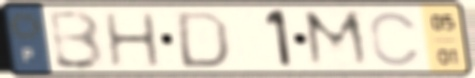1: (262, 7, 296, 71)
B: (47, 7, 108, 72)
C: (367, 9, 424, 69)
D: (174, 9, 232, 71)
H: (101, 10, 165, 70)
M: (299, 8, 375, 70)
